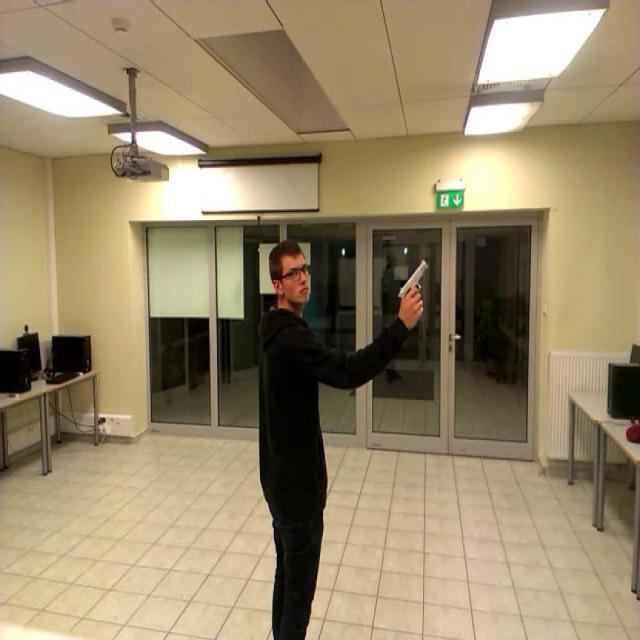pistol: (397, 258, 428, 310)
